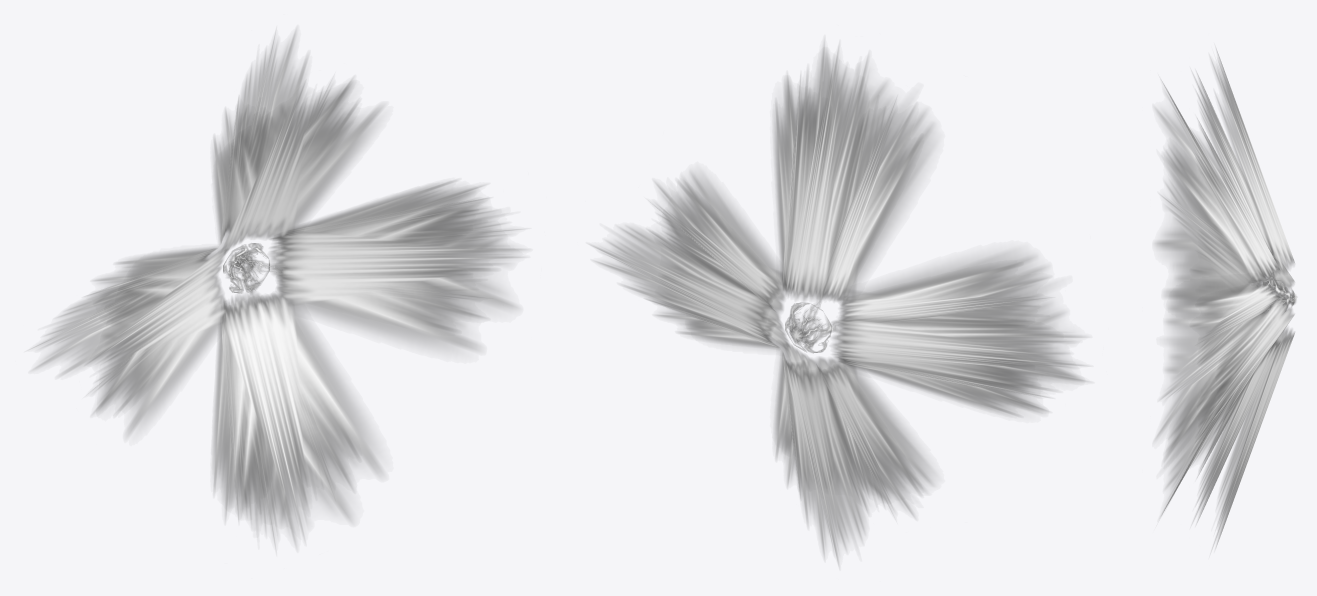
Rendered from si_eos_6100.glb.
3 views of the same model, side by side, from view 1: azimuth 30°, elevation 25°; view 2: azimuth 150°, elevation 25°; view 3: azimuth 270°, elevation 25° (orthographic). The views are drawn at different scales.
Visible parts, largest first — view 1: layer_01_si_est_0500, layer_03_si_est_0801, layer_02_si_est_0800; view 2: layer_01_si_est_0500, layer_02_si_est_0800; view 3: layer_01_si_est_0500, layer_02_si_est_0800, layer_03_si_est_0801.
Boxes of the visible parts, x1,y1,x2,y2 form: layer_01_si_est_0500: (31,31,524,546); layer_03_si_est_0801: (223,243,269,293); layer_02_si_est_0800: (227,247,281,293); layer_01_si_est_0500: (591,43,1086,564); layer_02_si_est_0800: (787,303,836,347); layer_01_si_est_0500: (1155,51,1294,546); layer_02_si_est_0800: (1257,279,1295,313); layer_03_si_est_0801: (1266,271,1291,313).
Bounding box in the file's own units: 124 × 124 × 34.58.
Materials: 4 (4 with a texture image).
